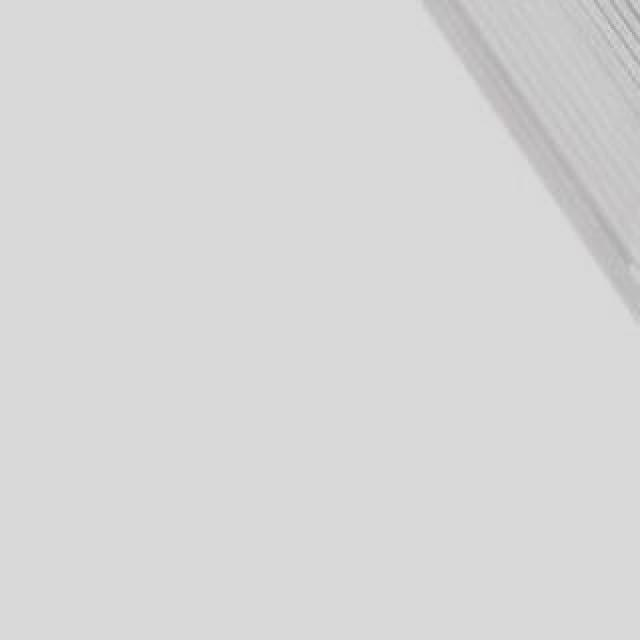fluorescent tube: (124, 0, 640, 532), (204, 0, 640, 252)
